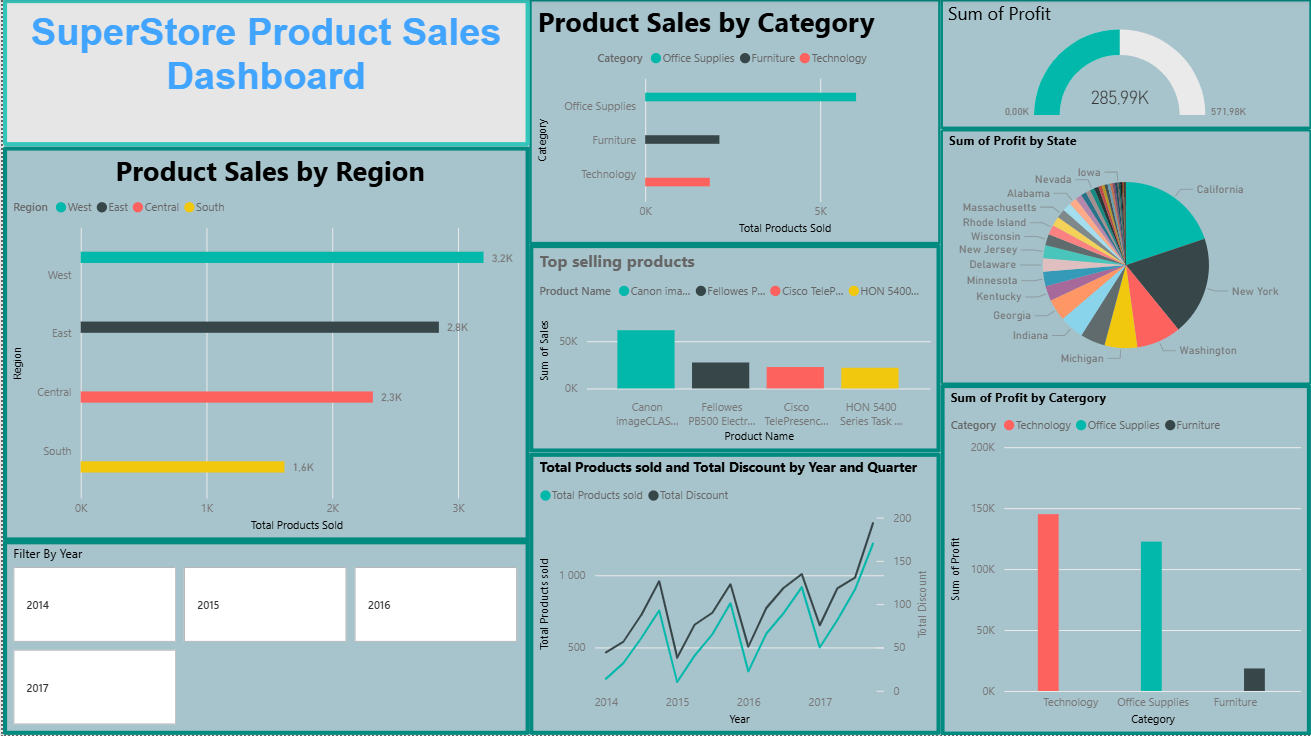

This screenshot's page, from the dashboard's own definition file:
{"tool":"powerbi","page":{"name":"Page 1","canvas":[1280,720],"ordinal":0},"visuals":[{"type":"clusteredBarChart","title":"Product Sales by Region","fields":{"Category":["Sample - Superstore.Region"],"Y":["CountNonNull(Sample - Superstore.Product ID)"],"Series":["Sample - Superstore.Region"]},"box":[10,144,504.8,385],"z":0},{"type":"clusteredBarChart","title":"Product Sales by Category","fields":{"Category":["Sample - Superstore.Category"],"Y":["CountNonNull(Sample - Superstore.Product ID)"],"Series":["Sample - Superstore.Category"]},"box":[514.8,0,402.3,377.9],"z":1000},{"type":"lineChart","fields":{"Category":["Sample - Superstore.Order Date.Variation.Date Hierarchy.Year","Sample - Superstore.Order Date.Variation.Date Hierarchy.Quarter","Sample - Superstore.Order Date.Variation.Date Hierarchy.Month","Sample - Superstore.Order Date.Variation.Date Hierarchy.Day"],"Y":["CountNonNull(Sample - Superstore.Product ID)"],"Y2":["Sum(Sample - Superstore.Discount)"]},"box":[524.6,377.9,414.5,327.7],"z":3000},{"type":"textbox","box":[10,5.7,504.8,121.2],"z":4000},{"type":"advancedSlicerVisual","title":"Filter By Year","fields":{"Values":["Sample - Superstore.Order Date.Variation.Date Hierarchy.Year"]},"box":[10,540.5,504.8,165.4],"z":5000},{"type":"pieChart","fields":{"Y":["Sum(Sample - Superstore.Profit)"],"Category":["Sample - Superstore.State"]},"box":[917.1,127.2,341.2,249.5],"z":5002},{"type":"gauge","fields":{"Y":["Sum(Sample - Superstore.Profit)"]},"box":[917.1,0,363.2,127.2],"z":5003},{"type":"lineClusteredColumnComboChart","title":"Sum of Profit by Catergory","fields":{"Y":["Sum(Sample - Superstore.Profit)"],"Category":["Sample - Superstore.Category"]},"box":[940,378,318,328],"z":5004}]}

Visuals, with their boxes in screenshot pixels (x1, y1, x2, y2), scaled from the page's 1280x720 canvas onto the 1311x736 screenshot:
"Product Sales by Region" clusteredBarChart: (10, 147, 527, 541)
"Product Sales by Category" clusteredBarChart: (527, 0, 939, 386)
lineChart - Sample - Superstore.Order Date.Variation.Date Hierarchy.Year x Sample - Superstore.Order Date.Variation.Date Hierarchy.Quarter: (537, 386, 962, 721)
textbox: (10, 6, 527, 130)
"Filter By Year" advancedSlicerVisual: (10, 553, 527, 722)
pieChart - Sum(Sample - Superstore.Profit) x Sample - Superstore.State: (939, 130, 1289, 385)
gauge - Sum(Sample - Superstore.Profit): (939, 0, 1310, 130)
"Sum of Profit by Catergory" lineClusteredColumnComboChart: (963, 386, 1288, 722)
